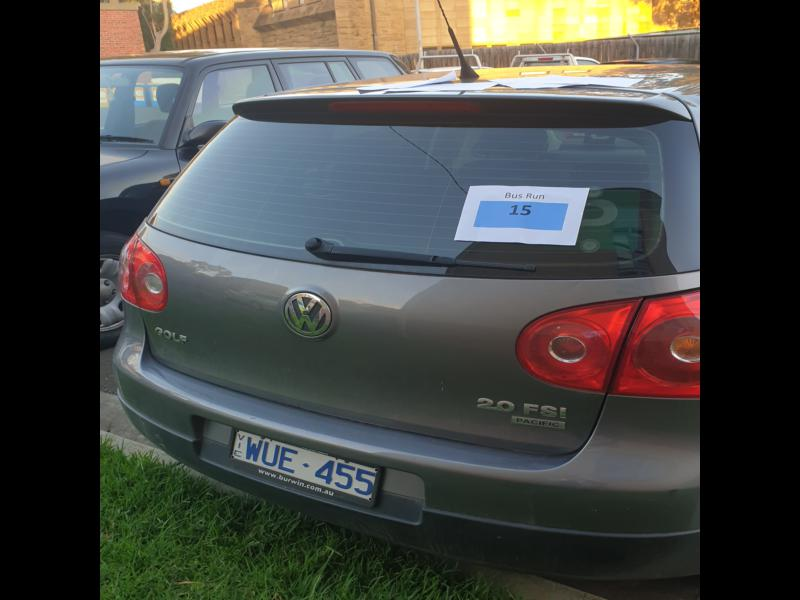BusRun: (473, 202, 569, 231)
PlateNo: (229, 427, 378, 500)
